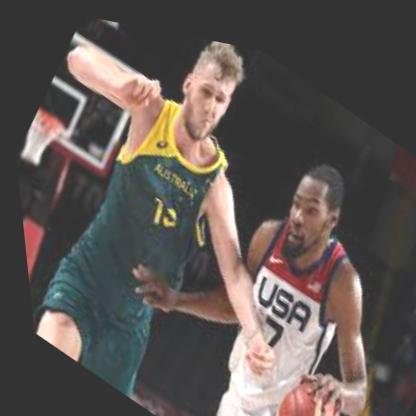basketball: (246, 353, 348, 416)
